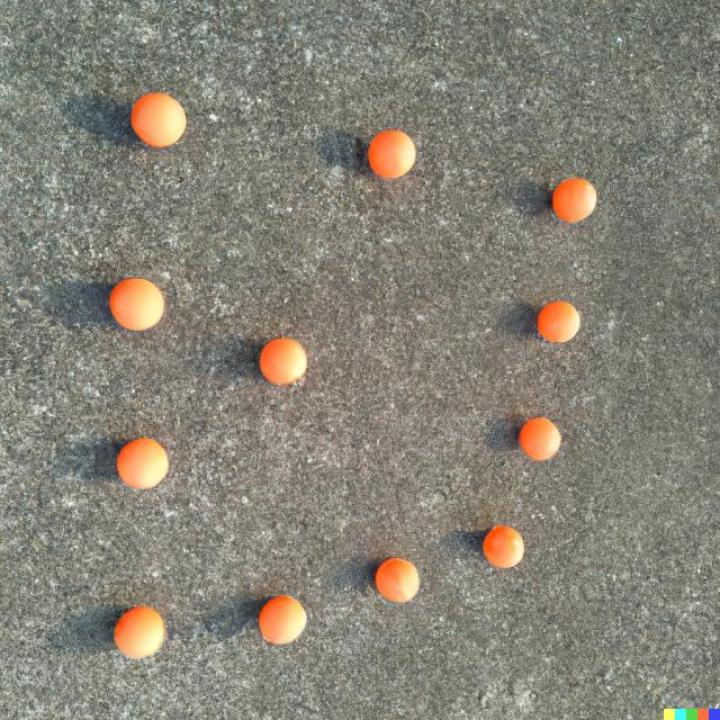orange: (132, 92, 186, 148), (108, 278, 164, 331), (258, 595, 308, 646), (115, 606, 164, 658), (118, 439, 168, 489), (368, 128, 416, 178), (259, 337, 308, 385), (553, 178, 598, 224), (375, 559, 420, 602), (483, 526, 524, 570), (520, 418, 561, 461), (538, 302, 580, 343)
